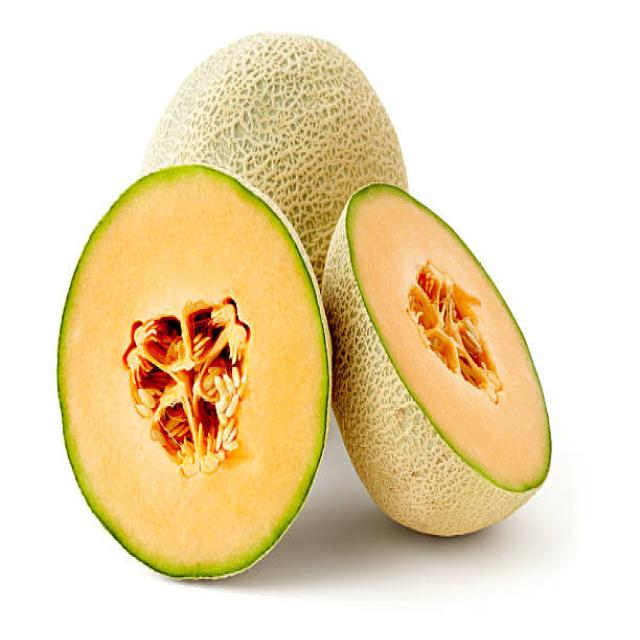cantaloupe: (56, 164, 334, 580), (322, 182, 552, 535)
